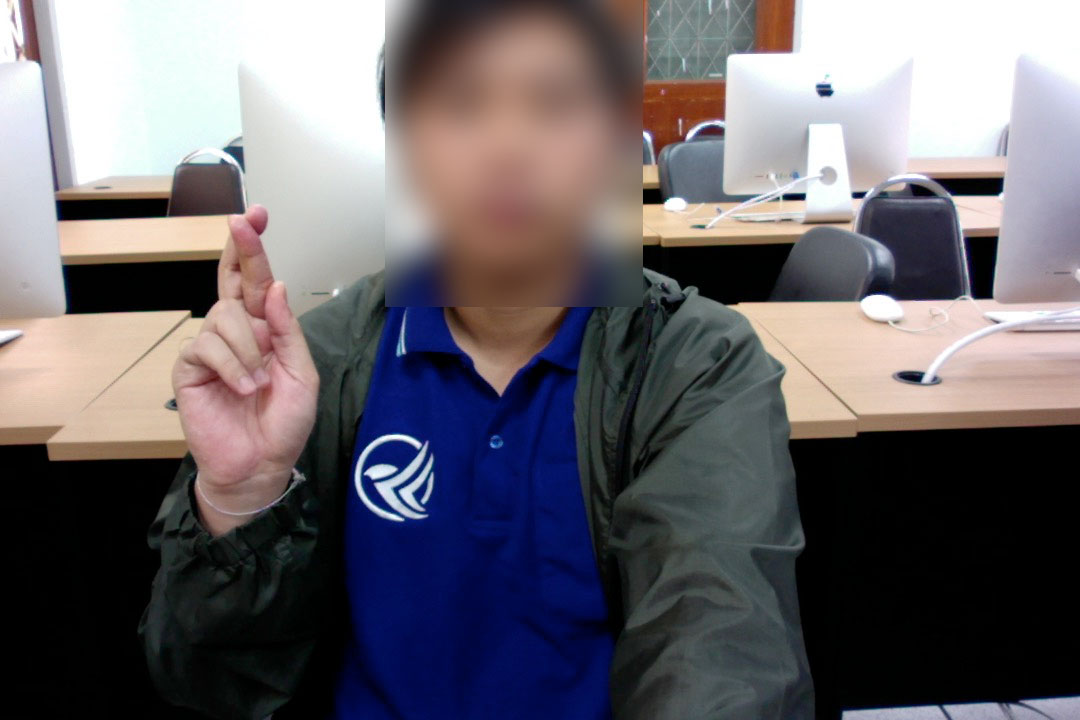rao: (167, 205, 330, 508)
